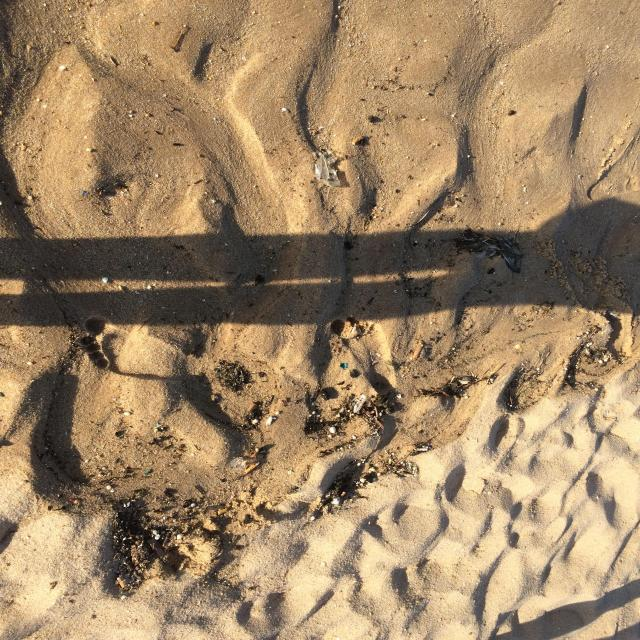litter: (316, 152, 344, 186)
